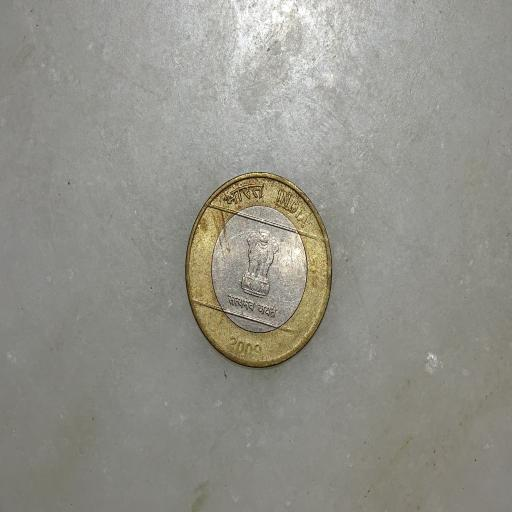rupee10: (184, 172, 334, 377)
